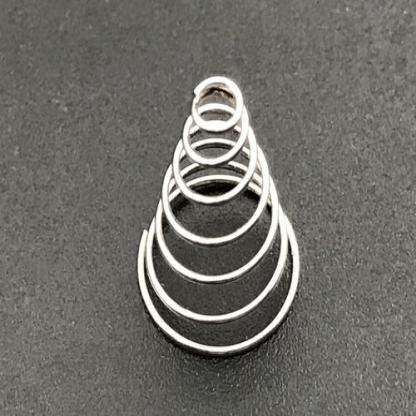FOD: (134, 69, 303, 360)
